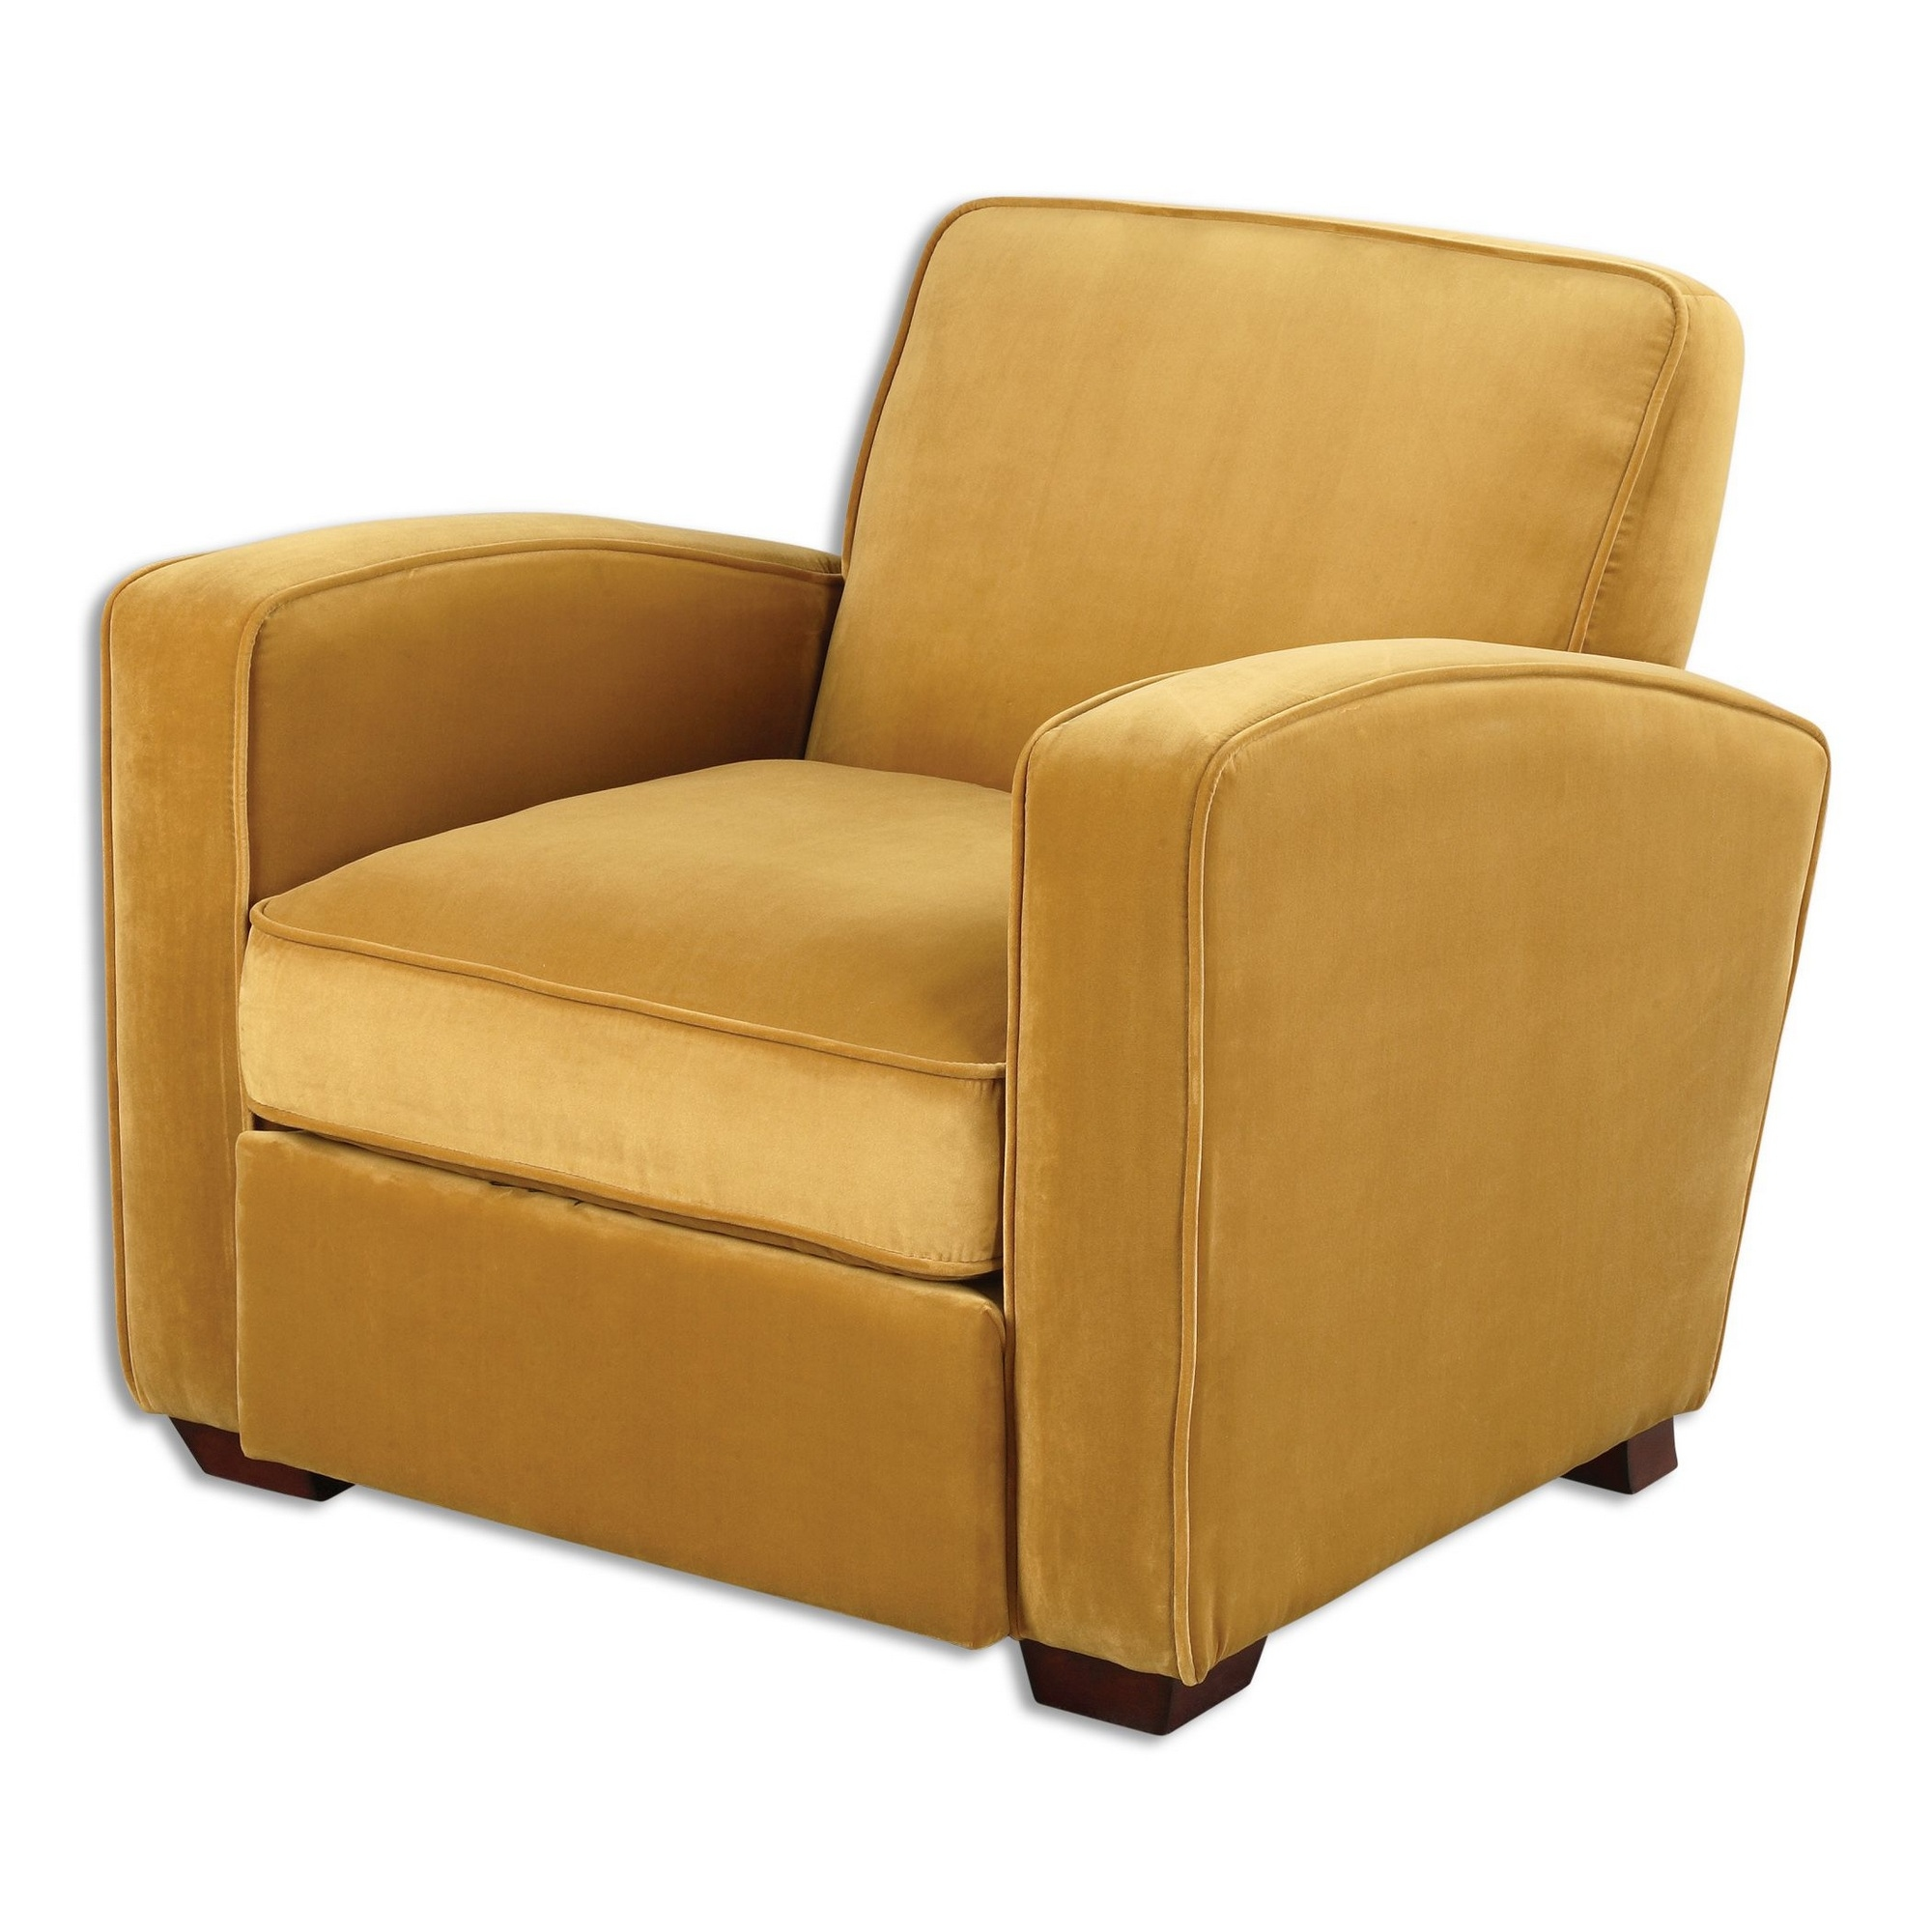chairs: (96, 188, 1835, 1741)
